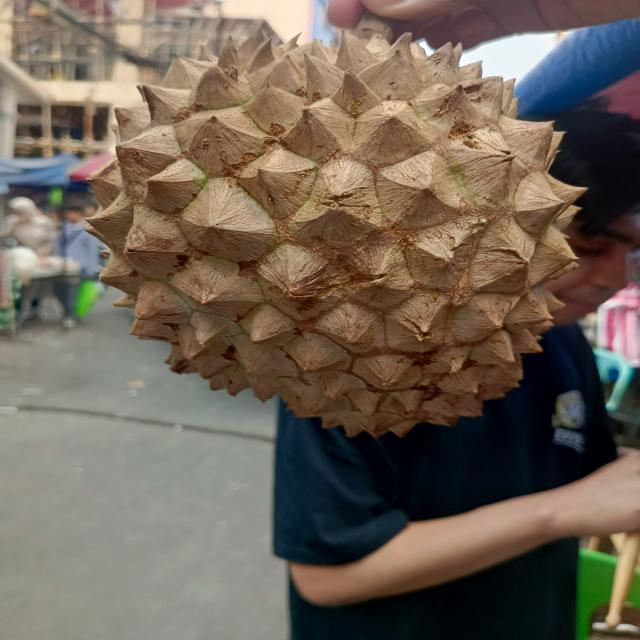mature: (72, 26, 582, 440)
